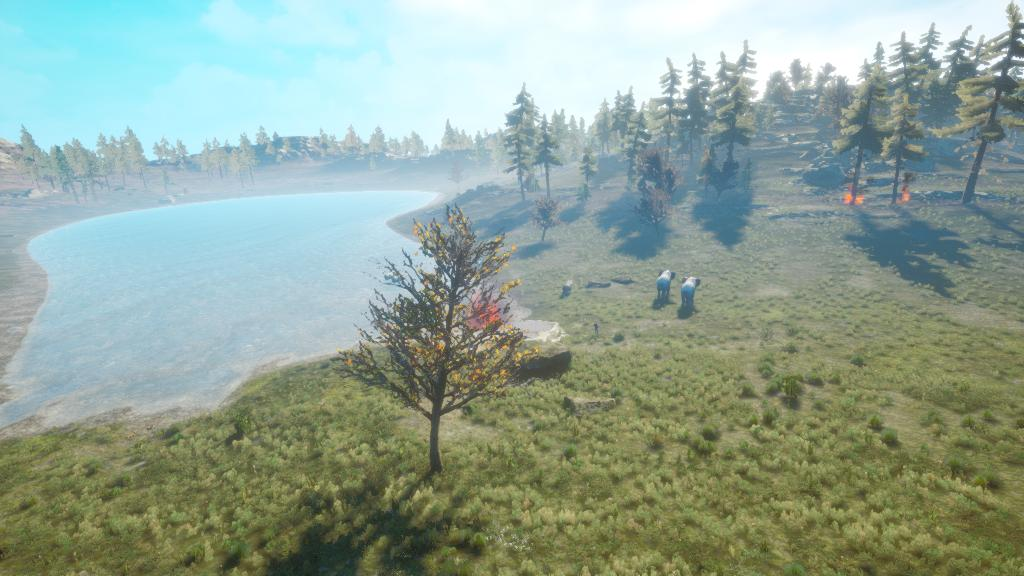Fire: (457, 288, 511, 336), (885, 179, 915, 207), (838, 182, 868, 208)
elephant: (651, 266, 677, 305), (678, 275, 705, 310)
hippopotamus: (556, 275, 579, 300)
human: (588, 320, 603, 339)
